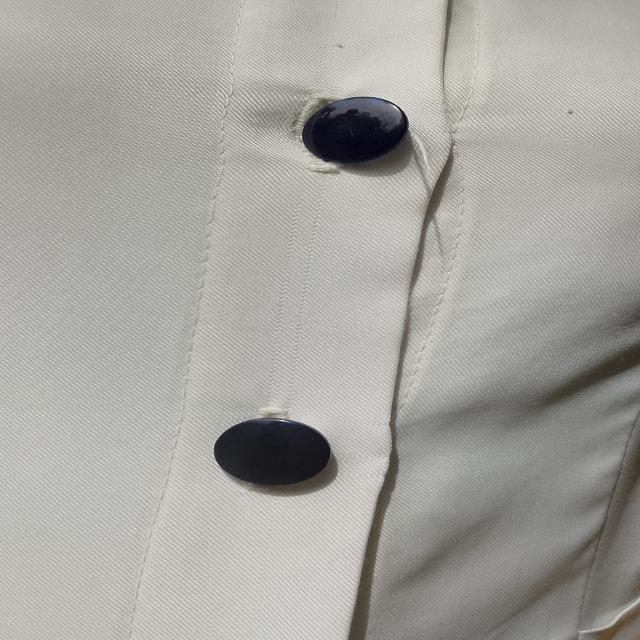education_female_uniform: (13, 24, 640, 640)
